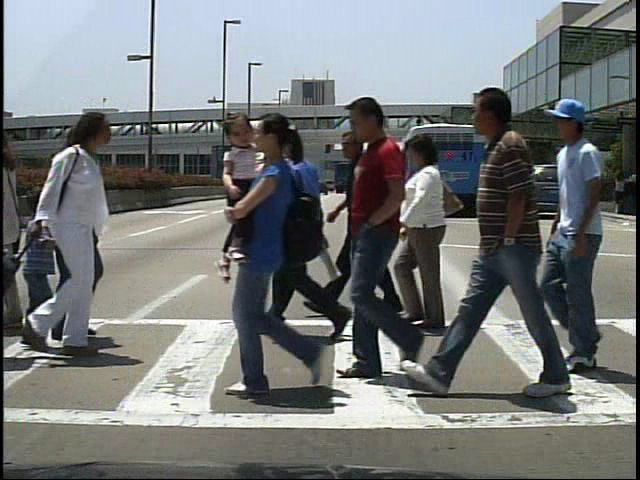person: (460, 84, 569, 415), (20, 113, 129, 362), (346, 96, 436, 378), (252, 121, 353, 347), (543, 101, 618, 376), (328, 130, 401, 322), (408, 137, 477, 338), (49, 113, 103, 360), (8, 197, 57, 349), (582, 168, 602, 218), (507, 166, 526, 215), (504, 165, 505, 216)
